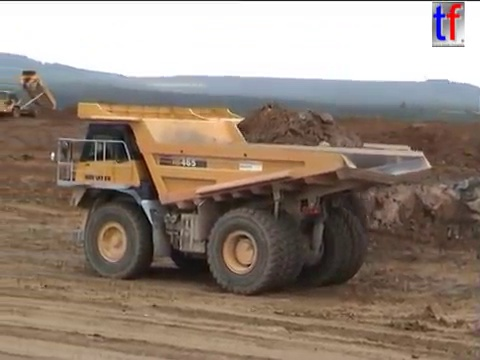truck: (48, 98, 434, 297), (106, 103, 414, 263), (1, 68, 57, 119)
